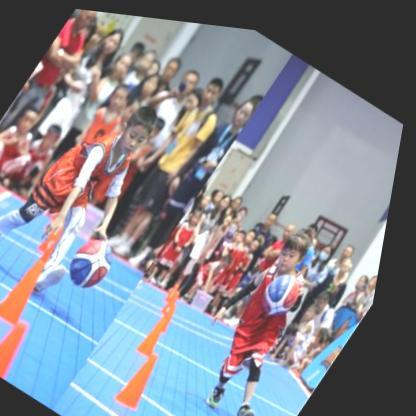basketball: (68, 227, 132, 295), (261, 257, 318, 318)
